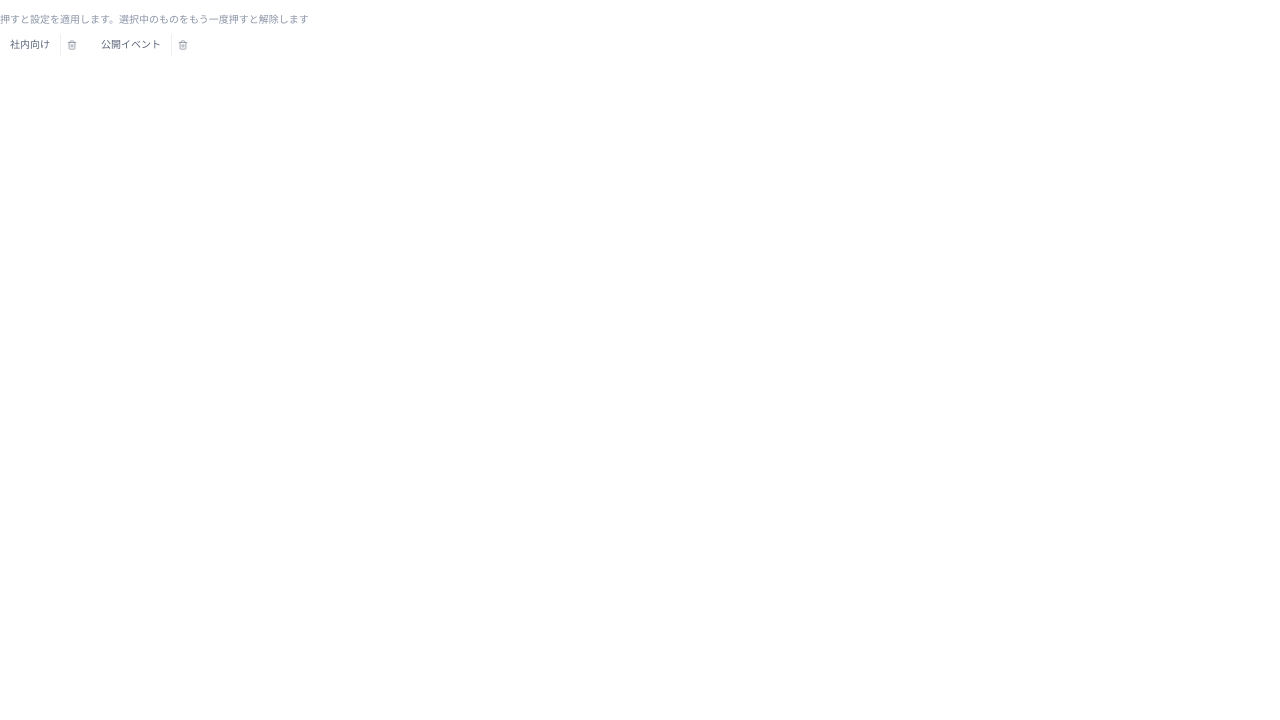
DisplayPresetPicker › deletes only after confirmation
Click the button named "「公開イベント」を削除" at (182,44), box [171,34,194,56]
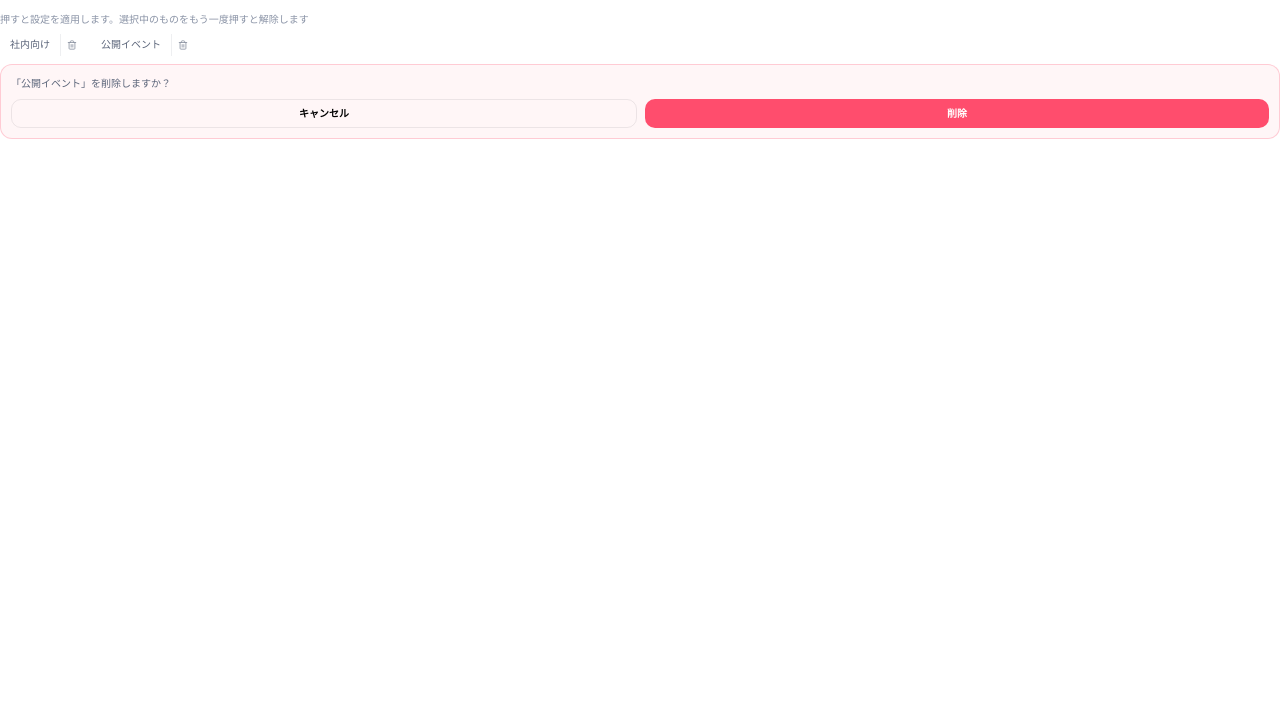
Click the button "削除" at (957,114), box [645,99,1269,128]
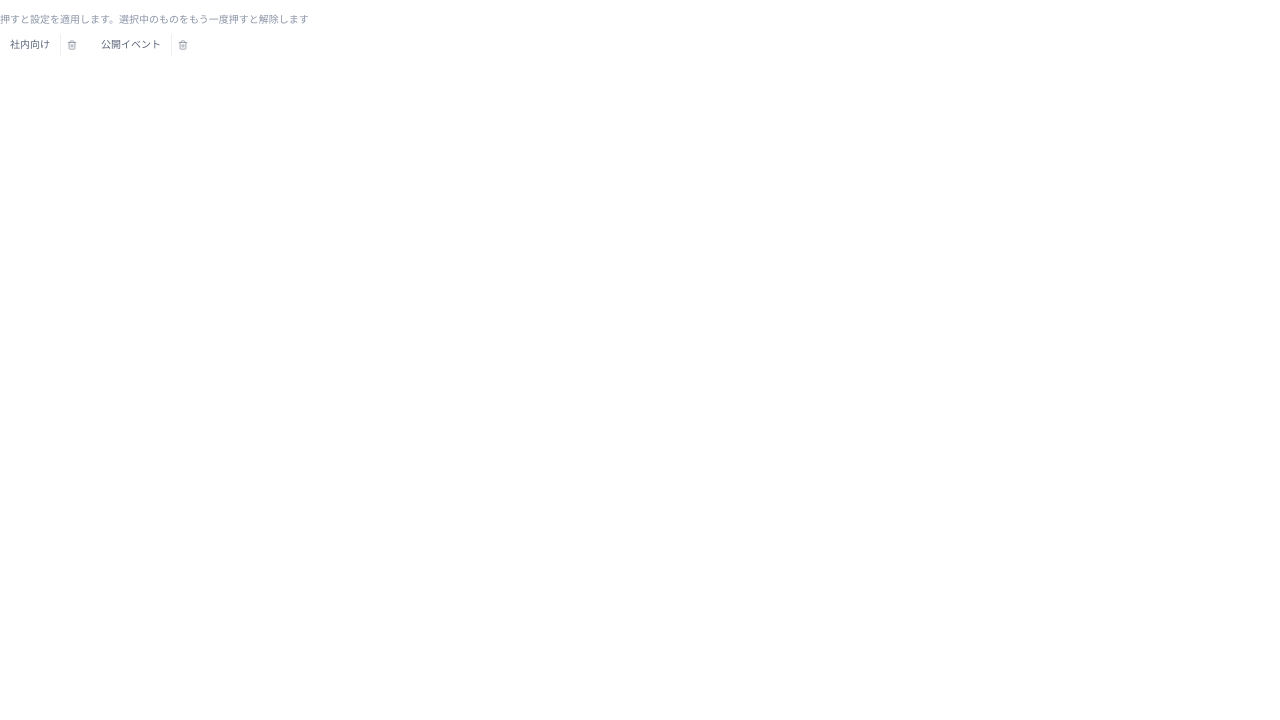
Result: the dialog is gone
